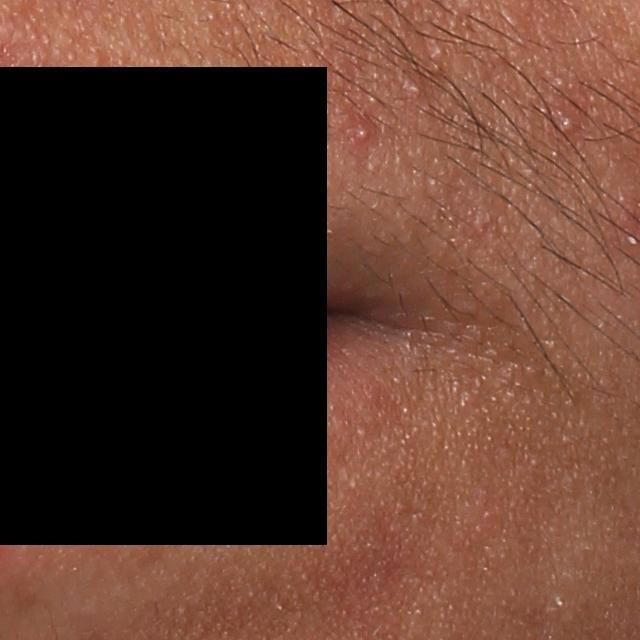comedo: (556, 113, 580, 139), (406, 81, 424, 99), (432, 44, 446, 60)
papule: (344, 119, 376, 153)
